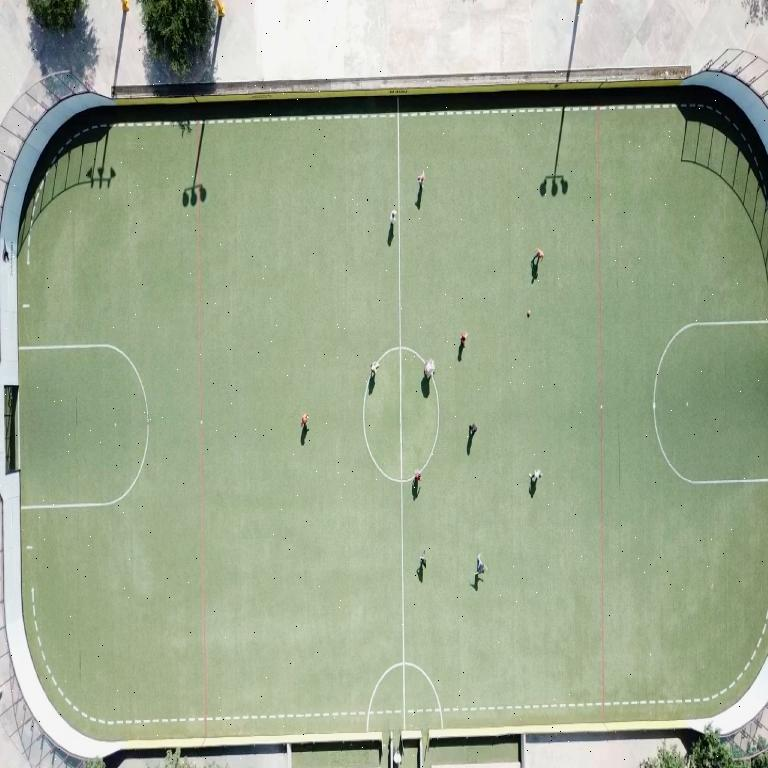AC: (18, 344, 148, 509), (652, 320, 767, 485)
B: (528, 310, 530, 316)
MC: (397, 223, 405, 729)
P: (423, 359, 434, 378), (475, 554, 484, 577), (529, 470, 541, 484), (370, 361, 378, 377), (417, 170, 424, 187), (419, 550, 425, 569), (414, 470, 422, 484), (534, 249, 543, 261), (469, 423, 476, 437), (300, 413, 306, 428), (460, 332, 466, 346), (390, 210, 395, 225)
